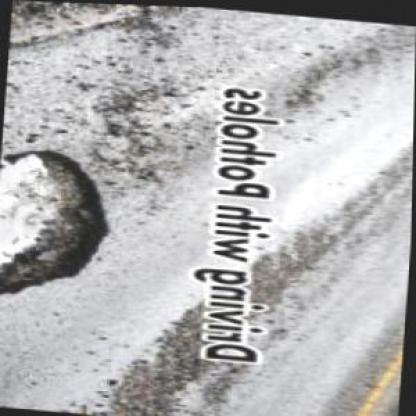pothole: (0, 146, 122, 309)
